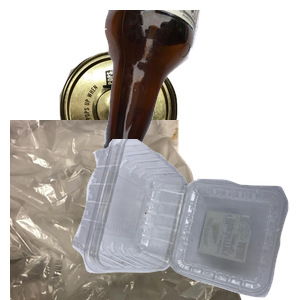glass: (99, 10, 300, 170)
metal: (57, 47, 227, 211)
plastic: (70, 139, 300, 300)
trash: (10, 120, 244, 300)
